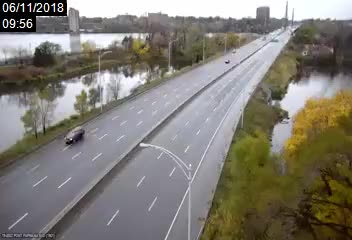personal_car: (61, 125, 86, 145), (223, 57, 231, 65)
